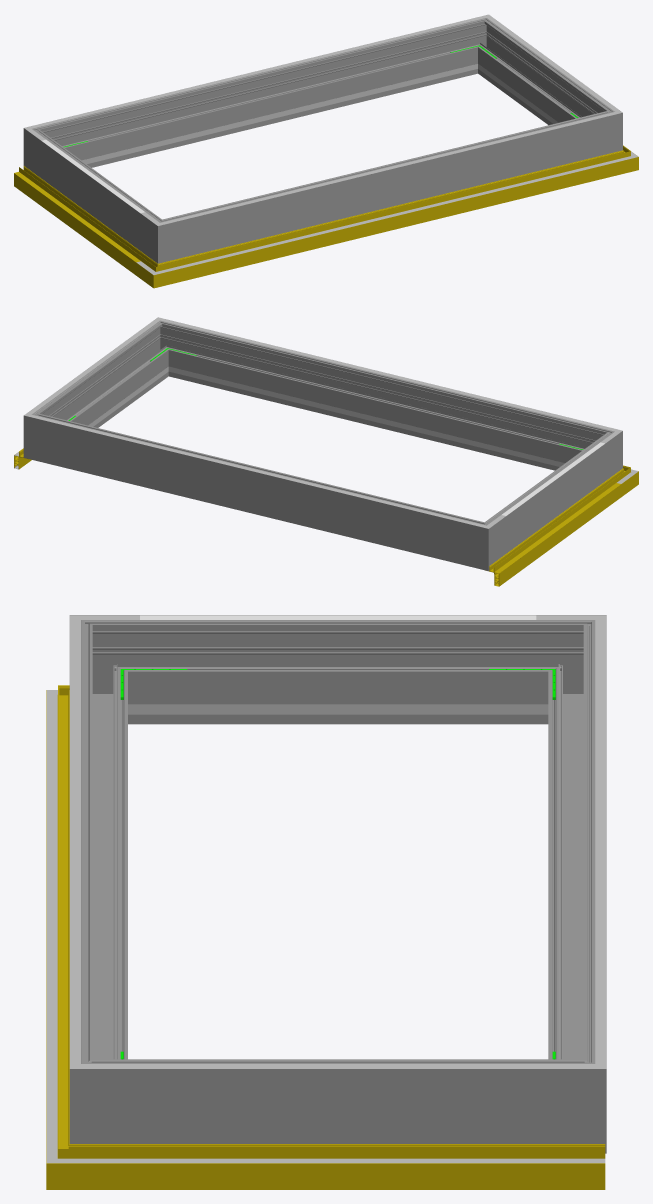
3 renders of one model, top to bottom at view 1: azimuth 30°, elevation 25°; view 2: azimuth 150°, elevation 25°; view 3: azimuth 270°, elevation 25°, orthographic. The views are drawn at different scales.
Parts seen in each view (by area): view 1: 3DGeom-276, 3DGeom-298, 3DGeom-90, 3DGeom-297, 3DGeom-268, 3DGeom-85, 3DGeom-244, 3DGeom-270, 3DGeom-100, 3DGeom-304, 3DGeom-290, 3DGeom-316 (+7 smaller); view 2: 3DGeom-298, 3DGeom-276, 3DGeom-297, 3DGeom-268, 3DGeom-85, 3DGeom-278, 3DGeom-239, 3DGeom-284, 3DGeom-304, 3DGeom-316, 3DGeom-290, 3DGeom-270 (+4 smaller); view 3: 3DGeom-268, 3DGeom-297, 3DGeom-97, 3DGeom-276, 3DGeom-298, 3DGeom-284, 3DGeom-290, 3DGeom-90, 3DGeom-100, 3DGeom-304, 3DGeom-278, 3DGeom-270 (+6 smaller).
Boxes of the visible parts, box(x1,y1,x2,y2) form: 3DGeom-276: box(57, 24, 472, 167); 3DGeom-298: box(182, 116, 592, 256); 3DGeom-90: box(178, 155, 608, 280); 3DGeom-297: box(481, 28, 600, 125); 3DGeom-268: box(41, 138, 149, 250); 3DGeom-85: box(14, 166, 145, 275); 3DGeom-244: box(93, 71, 448, 162); 3DGeom-270: box(140, 211, 188, 263); 3DGeom-100: box(181, 162, 607, 267); 3DGeom-304: box(54, 22, 460, 122); 3DGeom-290: box(587, 101, 622, 157); 3DGeom-316: box(186, 118, 591, 218); 3DGeom-298: box(173, 327, 589, 470); 3DGeom-276: box(54, 419, 463, 563); 3DGeom-297: box(46, 331, 165, 427); 3DGeom-268: box(496, 441, 605, 553); 3DGeom-85: box(485, 477, 621, 586); 3DGeom-278: box(458, 513, 506, 571); 3DGeom-239: box(198, 373, 553, 465); 3DGeom-284: box(23, 404, 59, 464); 3DGeom-304: box(54, 421, 460, 521); 3DGeom-316: box(186, 325, 591, 425); 3DGeom-290: box(145, 320, 185, 378); 3DGeom-270: box(578, 425, 622, 480); 3DGeom-268: box(139, 615, 536, 724); 3DGeom-297: box(139, 1059, 536, 1143); 3DGeom-97: box(116, 1144, 605, 1189); 3DGeom-276: box(548, 644, 606, 1059); 3DGeom-298: box(69, 644, 127, 1059); 3DGeom-284: box(536, 1039, 606, 1153); 3DGeom-290: box(69, 1039, 139, 1143); 3DGeom-90: box(46, 710, 69, 1133); 3DGeom-100: box(46, 719, 57, 1133); 3DGeom-304: box(595, 644, 606, 1039); 3DGeom-278: box(536, 615, 606, 724); 3DGeom-270: box(69, 615, 139, 724).
Bounding box in the file's own units: 2.44 × 0.2667 × 1.22.
